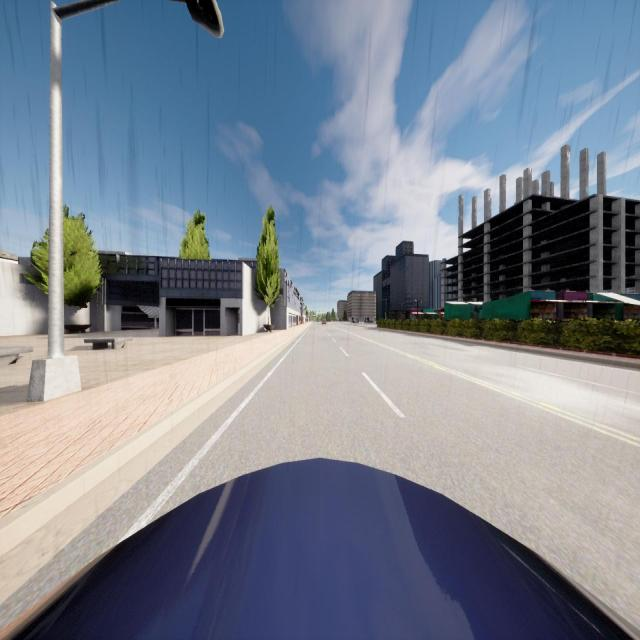Vehicle: (0, 457, 639, 640), (352, 319, 360, 324), (364, 320, 374, 324), (322, 318, 326, 325)
